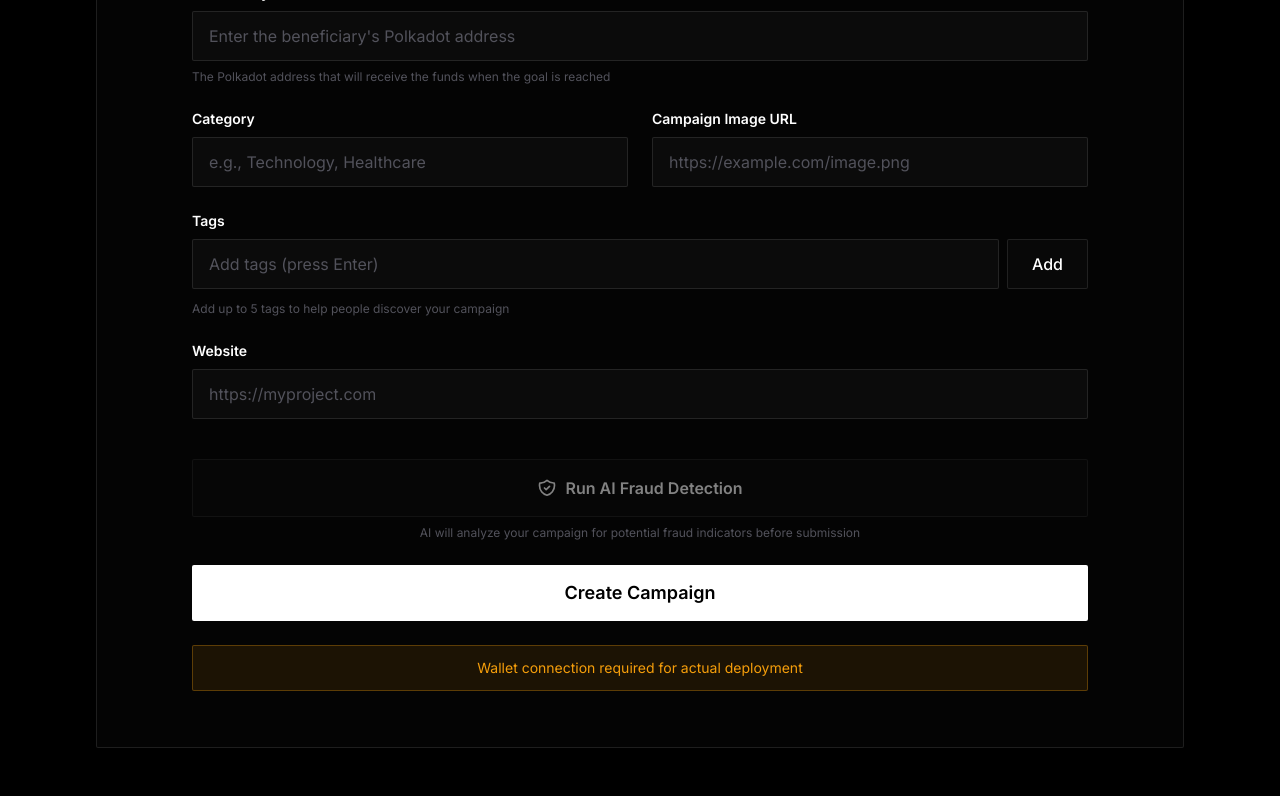
Test: Campaign Creation Integration Tests › Form Validation › should display validation errors for empty required fields
(page scrolled)
Note: Try to submit without filling form
Click the button "Create Campaign".
click(640, 593)  # box top-left (192, 565), bottom-right (1088, 621)
(page scrolled)
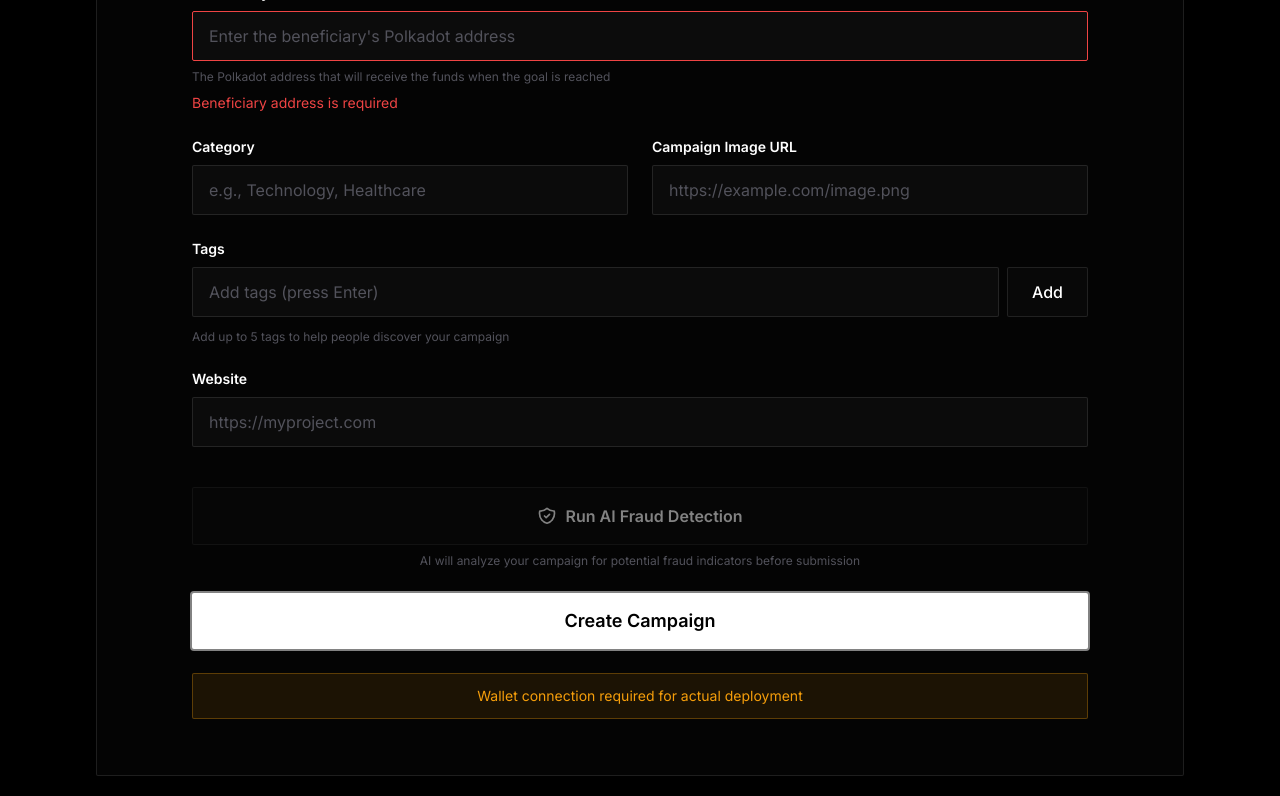
Result: the text "Beneficiary address is required" is shown at top-left (192, 94), bottom-right (398, 111)
